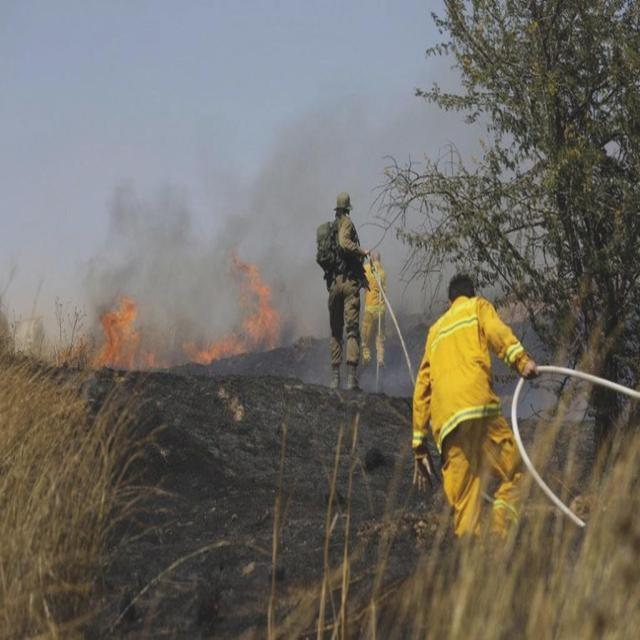fire: (190, 257, 285, 364), (89, 295, 150, 372)
smoke: (109, 165, 330, 246)
